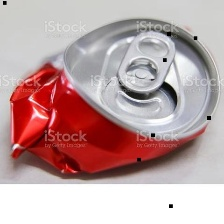can: (8, 14, 221, 178)
